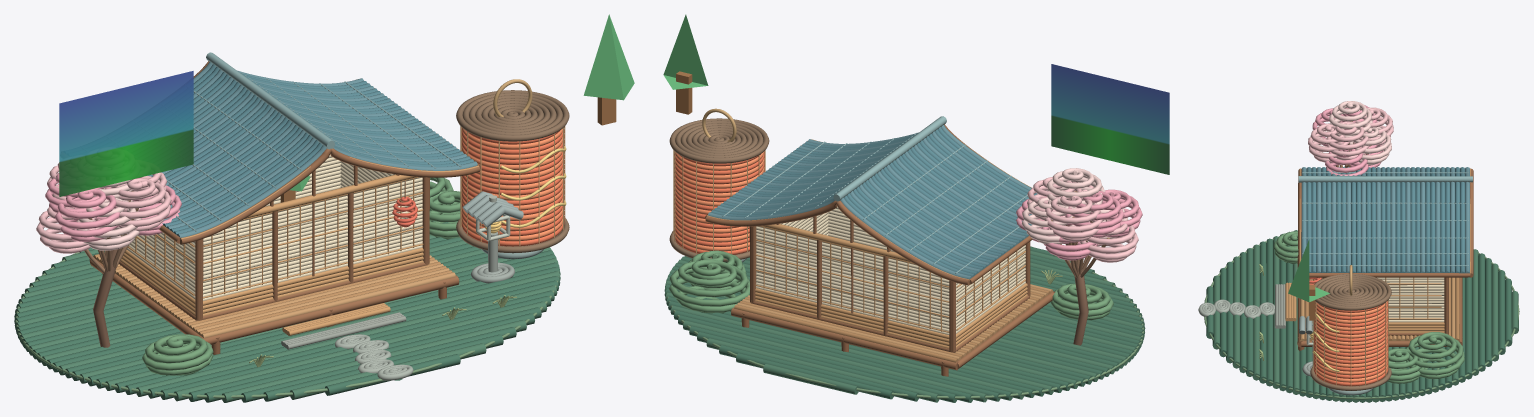
Rendered from reference-export-scene.glb.
3 views of the same model, side by side, from view 1: azimuth 30°, elevation 25°; view 2: azimuth 150°, elevation 25°; view 3: azimuth 270°, elevation 25° (orthographic). The views are drawn at different scales.
Parts seen in each view (by area): view 1: Image_Garden reference, OBJ_Sapling reference, Stroke_449, Stroke_398, Stroke_92, Stroke_440, Stroke_37, Stroke_39, Stroke_38, Stroke_438, Stroke_34, Stroke_40 (+96 smaller); view 2: Image_Garden reference, Stroke_447, OBJ_Sapling reference, Stroke_396, Stroke_88, Stroke_444, Stroke_9, Stroke_10, Stroke_8, Stroke_449, Stroke_11, Stroke_7 (+109 smaller); view 3: Stroke_447, Stroke_400, OBJ_Sapling reference, Stroke_430, Stroke_448, Stroke_432, Stroke_38, Stroke_41, Stroke_49, Stroke_40, Stroke_39, Stroke_438 (+84 smaller).
Boxes of the visible parts, bbox=[...] form: Image_Garden reference: bbox=[59, 71, 193, 196]; OBJ_Sapling reference: bbox=[583, 14, 634, 125]; Stroke_449: bbox=[142, 334, 213, 375]; Stroke_398: bbox=[180, 148, 480, 244]; Stroke_92: bbox=[202, 275, 459, 344]; Stroke_440: bbox=[55, 189, 119, 241]; Stroke_37: bbox=[136, 285, 557, 396]; Stroke_39: bbox=[160, 296, 551, 399]; Stroke_38: bbox=[148, 290, 554, 398]; Stroke_438: bbox=[114, 178, 171, 231]; Stroke_34: bbox=[105, 271, 560, 390]; Stroke_40: bbox=[174, 301, 547, 401]; Image_Garden reference: bbox=[1051, 64, 1169, 174]; Stroke_447: bbox=[669, 259, 749, 313]; OBJ_Sapling reference: bbox=[663, 14, 708, 114]; Stroke_396: bbox=[705, 200, 969, 285]; Stroke_88: bbox=[731, 307, 958, 370]; Stroke_444: bbox=[1044, 196, 1103, 241]; Stroke_9: bbox=[673, 310, 1012, 400]; Stroke_10: bbox=[670, 305, 1024, 399]; Stroke_8: bbox=[678, 315, 1000, 401]; Stroke_449: bbox=[1051, 283, 1113, 320]; Stroke_11: bbox=[668, 301, 1034, 397]; Stroke_7: bbox=[683, 320, 987, 402]; Stroke_447: bbox=[1406, 332, 1464, 378]; Stroke_400: bbox=[1298, 176, 1472, 182]; OBJ_Sapling reference: bbox=[1288, 239, 1329, 320]; Stroke_430: bbox=[1329, 101, 1372, 138]; Stroke_448: bbox=[1387, 348, 1424, 383]; Stroke_432: bbox=[1326, 121, 1369, 160]; Stroke_38: bbox=[1265, 238, 1272, 386]; Stroke_41: bbox=[1246, 248, 1253, 376]; Stroke_49: bbox=[1204, 236, 1519, 399]; Stroke_40: bbox=[1252, 244, 1259, 380]; Stroke_39: bbox=[1259, 241, 1266, 383]; Stroke_438: bbox=[1308, 123, 1349, 163].
Size of the model in its own units: 13.71 by 6.62 by 9.21.
41 materials, 1 textured.
